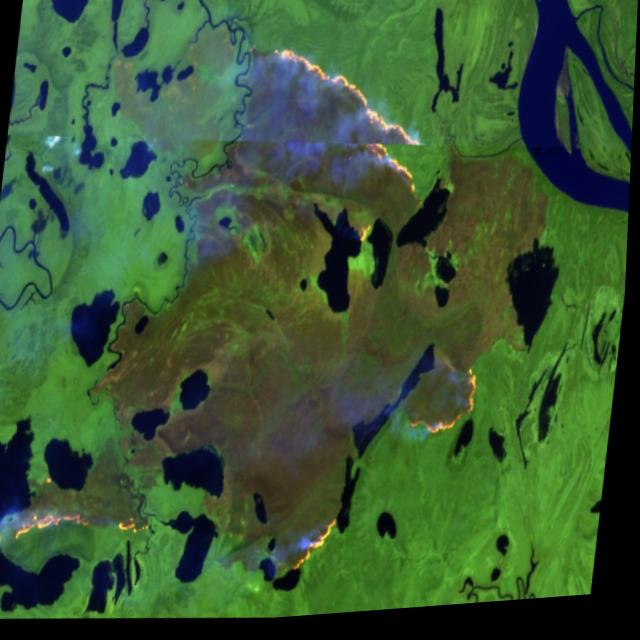fire: (0, 325, 490, 618), (228, 37, 438, 217)
